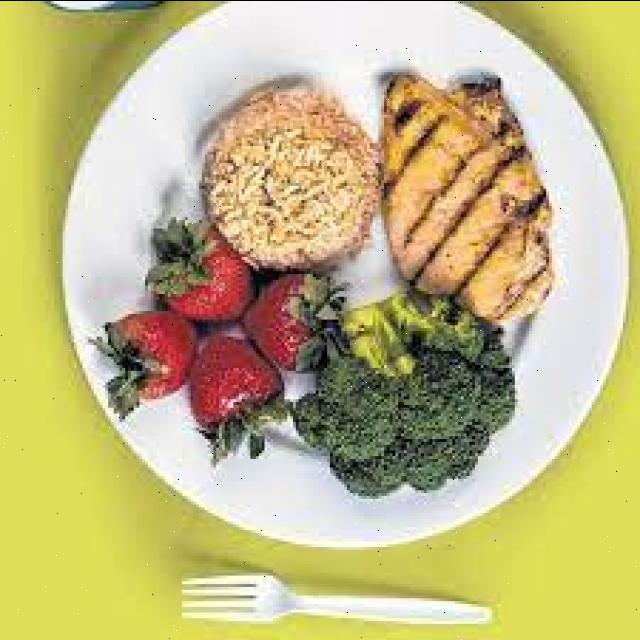Chicken: (381, 77, 549, 324)
Fruits: (91, 222, 321, 464)
Green veg: (290, 293, 512, 495)
Rice: (202, 88, 375, 270)
